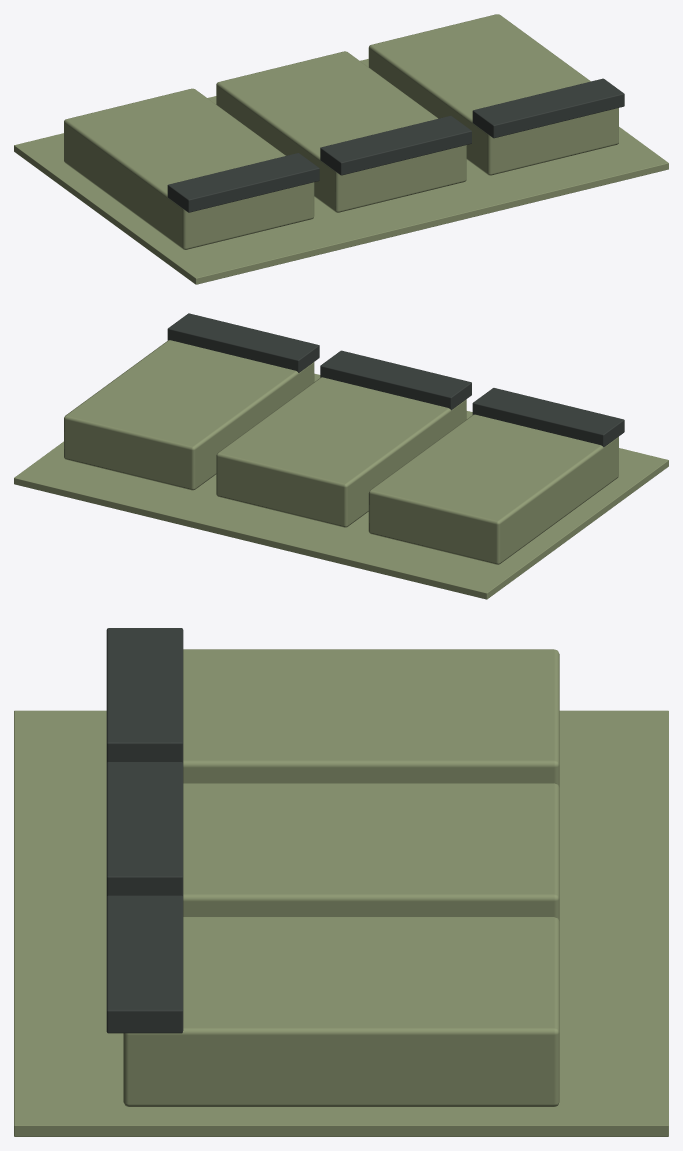
File: backpacks-and-expedition-storage-lid-organizer-fba03688__21101.glb
The picture shows the model from 3 angles, top to bottom: view 1: azimuth 30°, elevation 25°; view 2: azimuth 150°, elevation 25°; view 3: azimuth 270°, elevation 25°; orthographic projection. The views are drawn at different scales.
Parts seen in each view (by area): view 1: lid-organizer; view 2: lid-organizer; view 3: lid-organizer.
Boxes of the visible parts, left/top/right/bottom form: lid-organizer: left=14, top=14, right=668, bottom=284; lid-organizer: left=14, top=313, right=668, bottom=599; lid-organizer: left=14, top=628, right=668, bottom=1136.
Size of the model in its own units: 0.45 by 0.056 by 0.3.
